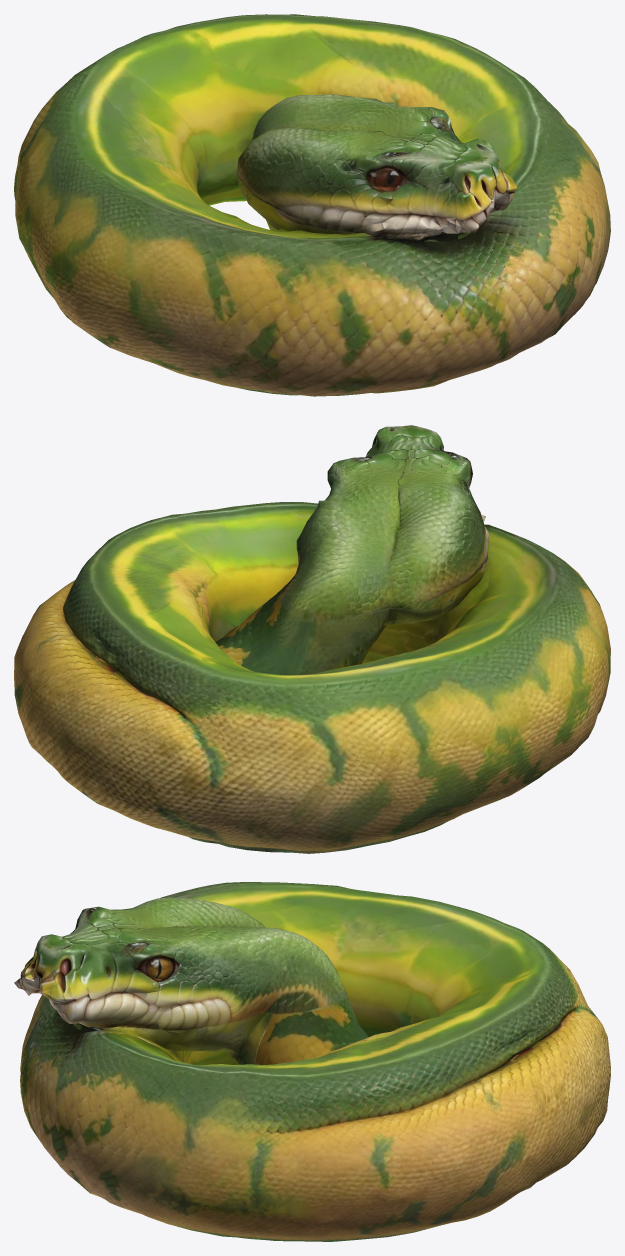
File: realgreensnake.glb
The picture shows the model from 3 angles, top to bottom: view 1: azimuth 30°, elevation 25°; view 2: azimuth 150°, elevation 25°; view 3: azimuth 270°, elevation 25°; orthographic projection. The views are drawn at different scales.
Parts seen in each view (by area): view 1: temp; view 2: temp; view 3: temp.
Part boxes in pixels (x1,y1,x2,y2): temp: (14,14,610,396); temp: (14,425,610,853); temp: (14,882,610,1241).
Size of the model in its own units: 0.4347 by 0.1895 by 0.45.
1 material, 1 textured.
